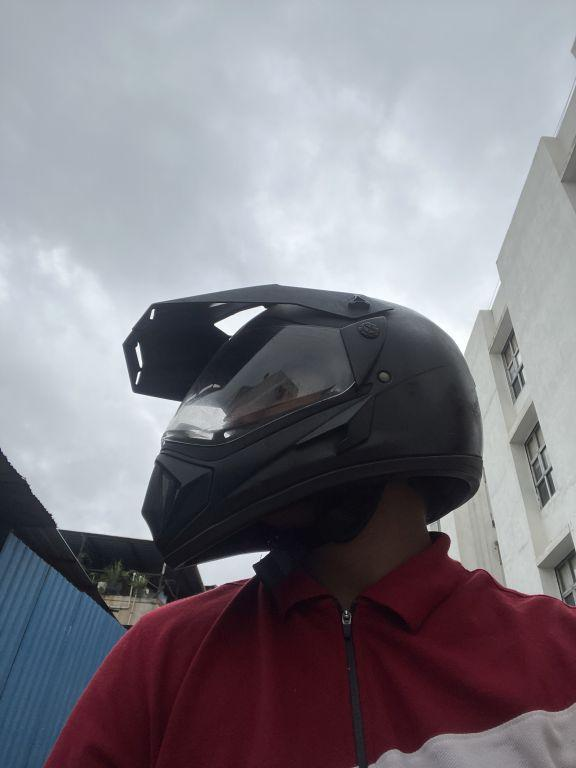helmet: (105, 267, 490, 563)
